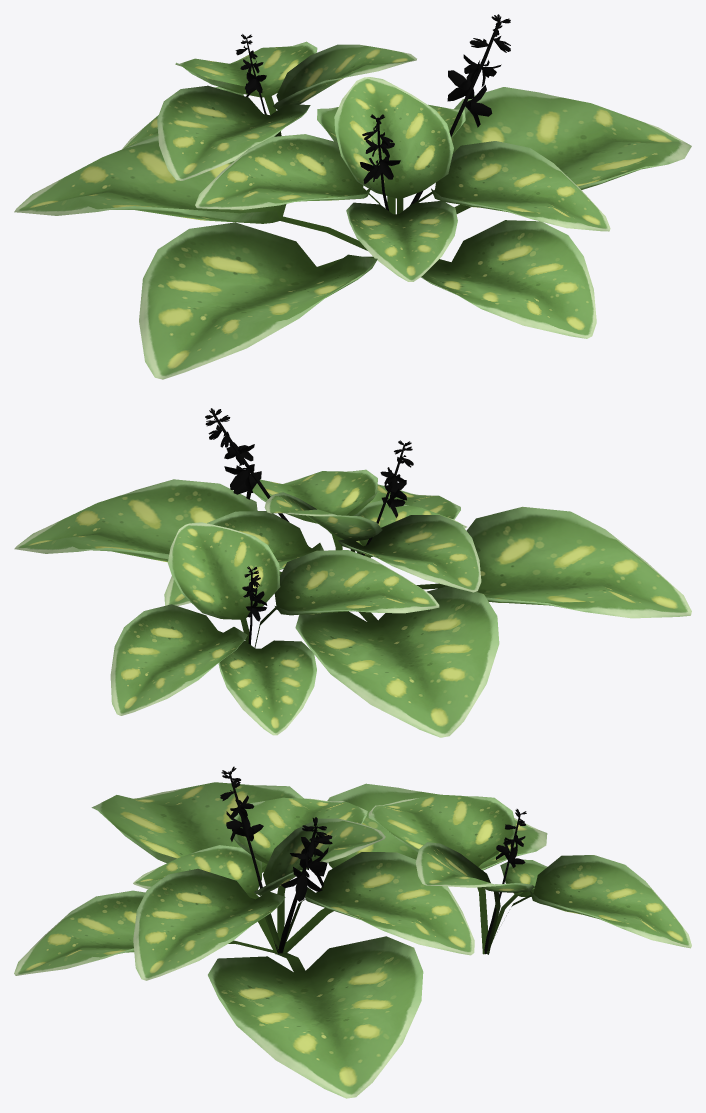
Rendered from Hosta_LGF_04.fbx.
3 views of the same model, one above another, from view 1: azimuth 30°, elevation 25°; view 2: azimuth 150°, elevation 25°; view 3: azimuth 270°, elevation 25° (orthographic). The views are drawn at different scales.
Visible parts, largest first — view 1: Hosta_LGF_04; view 2: Hosta_LGF_04; view 3: Hosta_LGF_04.
Part boxes in pixels (x1=…): Hosta_LGF_04: x1=14, y1=14, x2=691, y2=379; Hosta_LGF_04: x1=14, y1=408, x2=691, y2=737; Hosta_LGF_04: x1=14, y1=766, x2=691, y2=1098.
Bounding box in the file's own units: 113 × 34.18 × 108.
